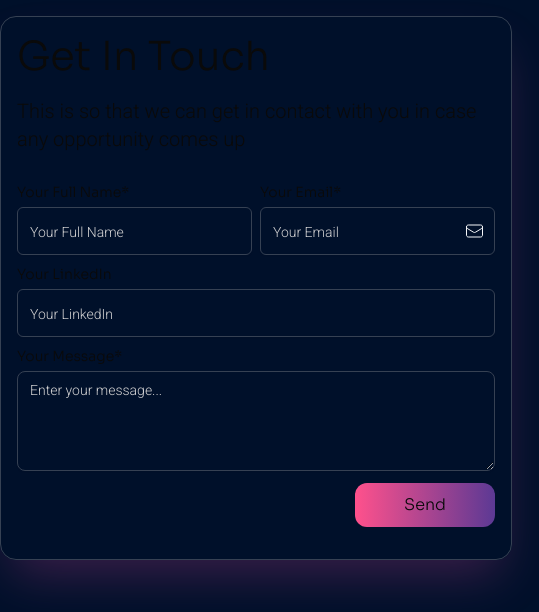
Test: ContactForm › should show success message when message is sent
The width and height of the screenshot is (539, 612).
In the field labelled "Your Full Name*": (134, 231) [17, 207, 252, 255], type "Jane Doe"
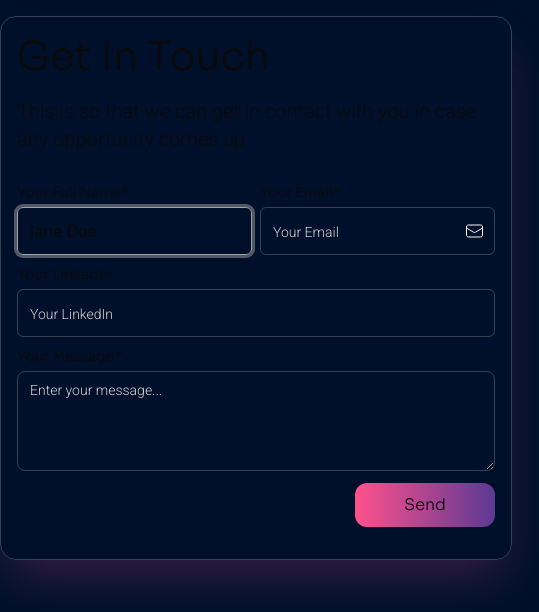
In the field labelled "Your Email*": (378, 231) [260, 207, 495, 255], type "email@example.com"
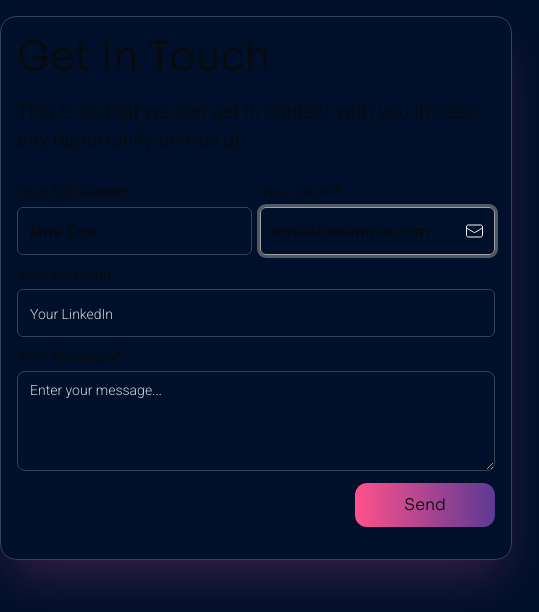
In the text box labelled "Your Message*": (256, 421) [17, 371, 495, 471], type "Hello World!"
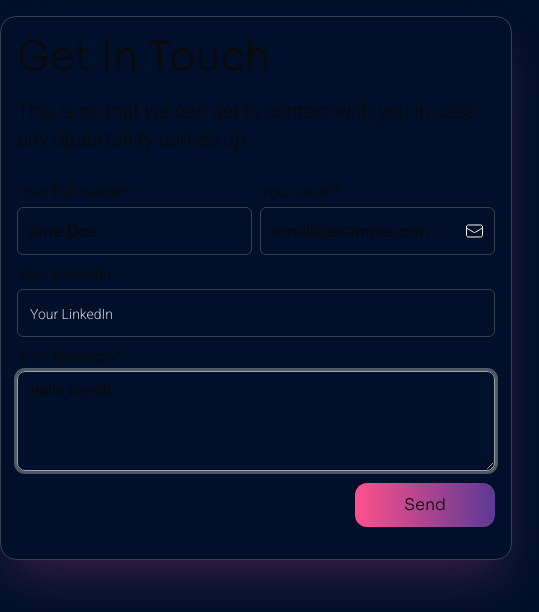
Click the button: (425, 505) [355, 483, 495, 527]
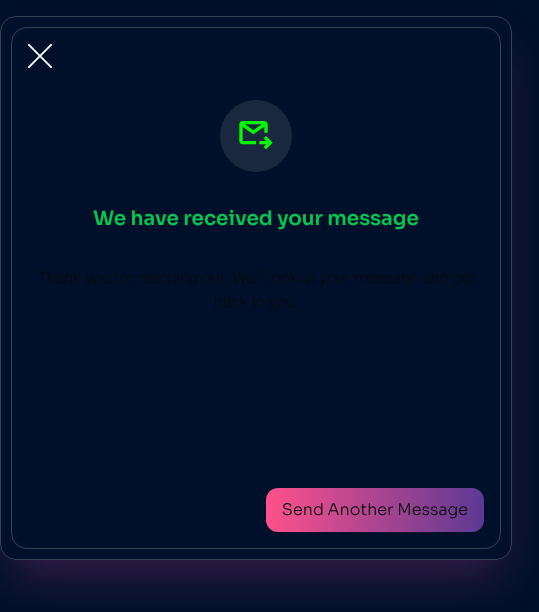
Expected: the heading "We have received your message" is shown, [93, 204, 419, 234]
Expected: the text "Thank you for reaching out. We'll look at your message and get back to you." is shown, [28, 266, 484, 314]
